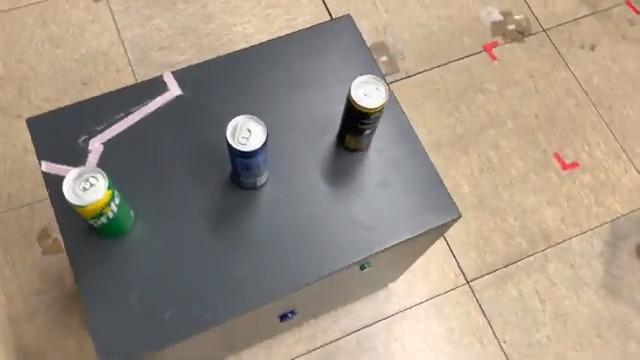OranSoda: (331, 72, 393, 156)
Pepsi: (222, 110, 276, 194)
Sprite: (59, 162, 139, 244)
